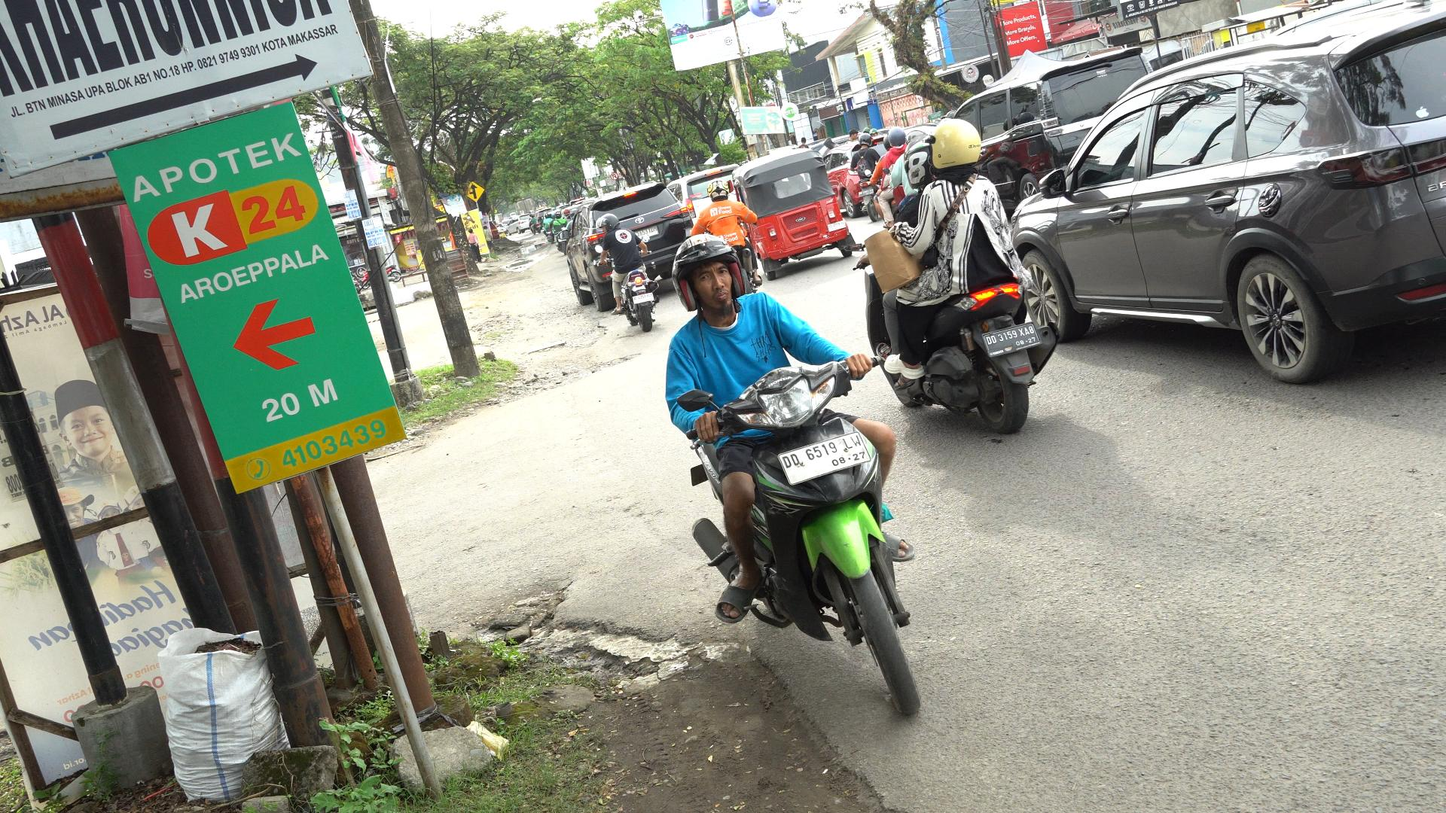number-plate: (781, 433, 874, 495)
